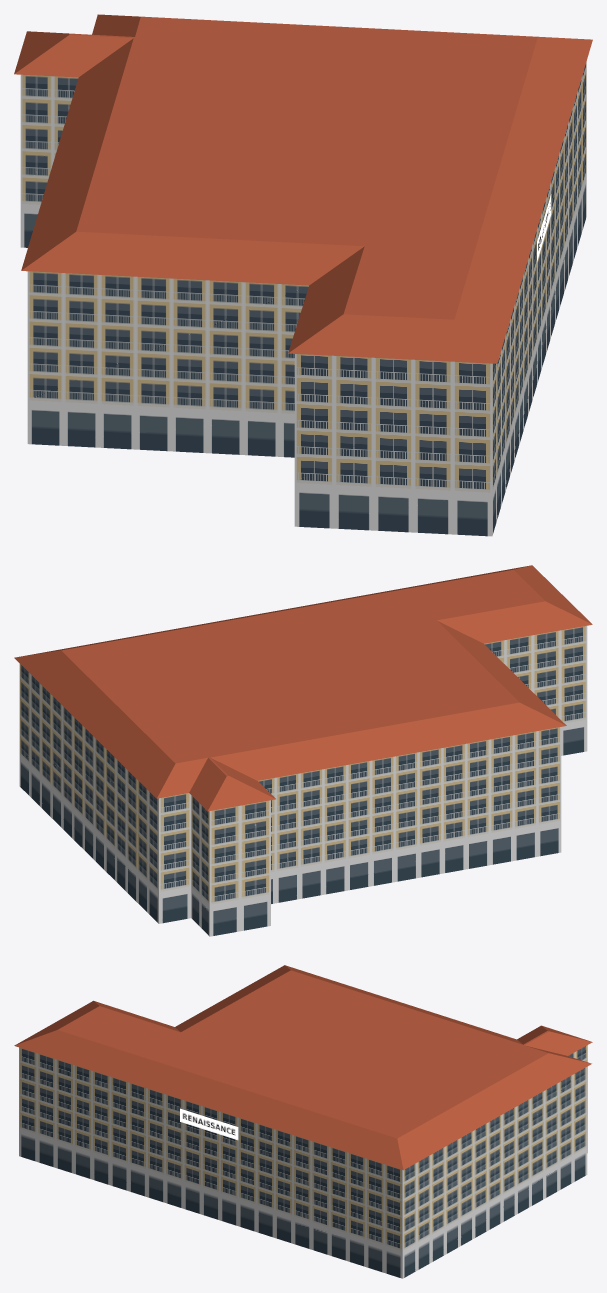
File: m_renaissancearubaresortca.glb
3 renders of one model, top to bottom at view 1: azimuth 30°, elevation 25°; view 2: azimuth 150°, elevation 25°; view 3: azimuth 270°, elevation 25°, orthographic. The views are drawn at different scales.
Parts seen in each view (by area): view 1: m_renaissancearubaresortca_lod0; view 2: m_renaissancearubaresortca_lod0; view 3: m_renaissancearubaresortca_lod0.
Part boxes in pixels (x1=…): m_renaissancearubaresortca_lod0: x1=14, y1=14, x2=592, y2=536; m_renaissancearubaresortca_lod0: x1=14, y1=565, x2=592, y2=936; m_renaissancearubaresortca_lod0: x1=14, y1=965, x2=592, y2=1278.
Size of what is drawn, in the model's own units: 79.48 by 22.4 by 94.78.
5 materials, 3 textured.
